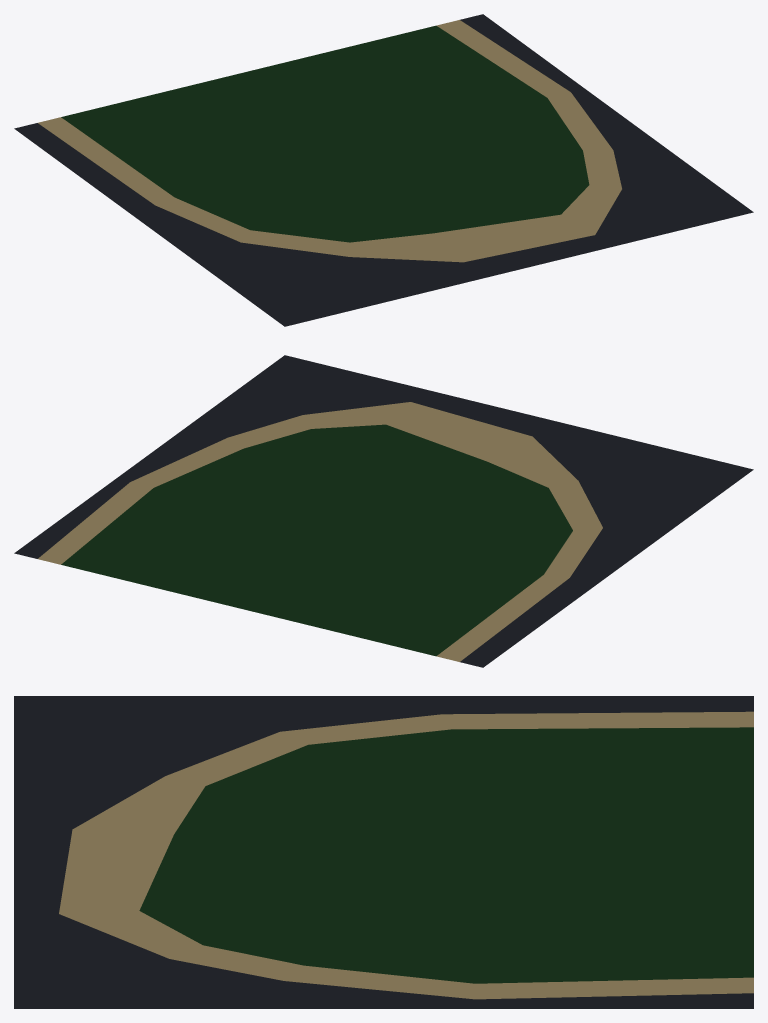
File: terrain_plains_penninsula3.fbx
3 views of the same model, one above another, from view 1: azimuth 30°, elevation 25°; view 2: azimuth 150°, elevation 25°; view 3: azimuth 270°, elevation 25° (orthographic). The views are drawn at different scales.
Visible parts, largest first — view 1: terrain_plains_penninsula3; view 2: terrain_plains_penninsula3; view 3: terrain_plains_penninsula3.
Part boxes in pixels (x1=…): terrain_plains_penninsula3: x1=14, y1=14, x2=753, y2=326; terrain_plains_penninsula3: x1=14, y1=355, x2=753, y2=667; terrain_plains_penninsula3: x1=14, y1=696, x2=753, y2=1008.
Bounding box in the file's own units: 10 × 0 × 10.
